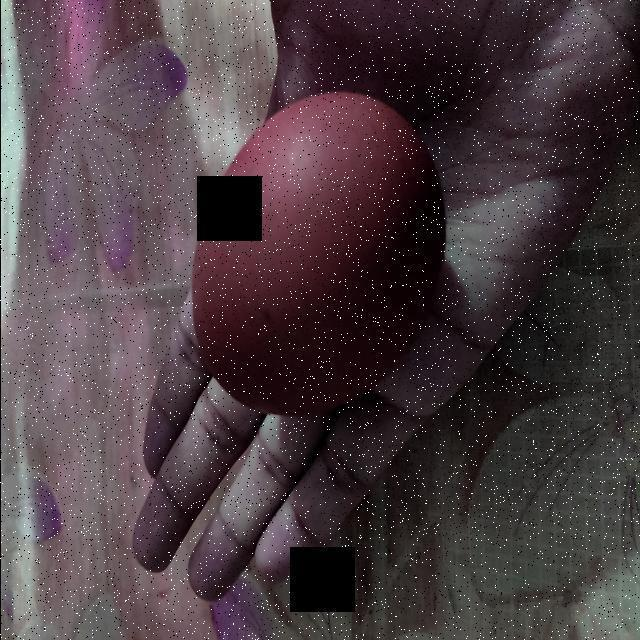egg: (182, 88, 444, 422)
